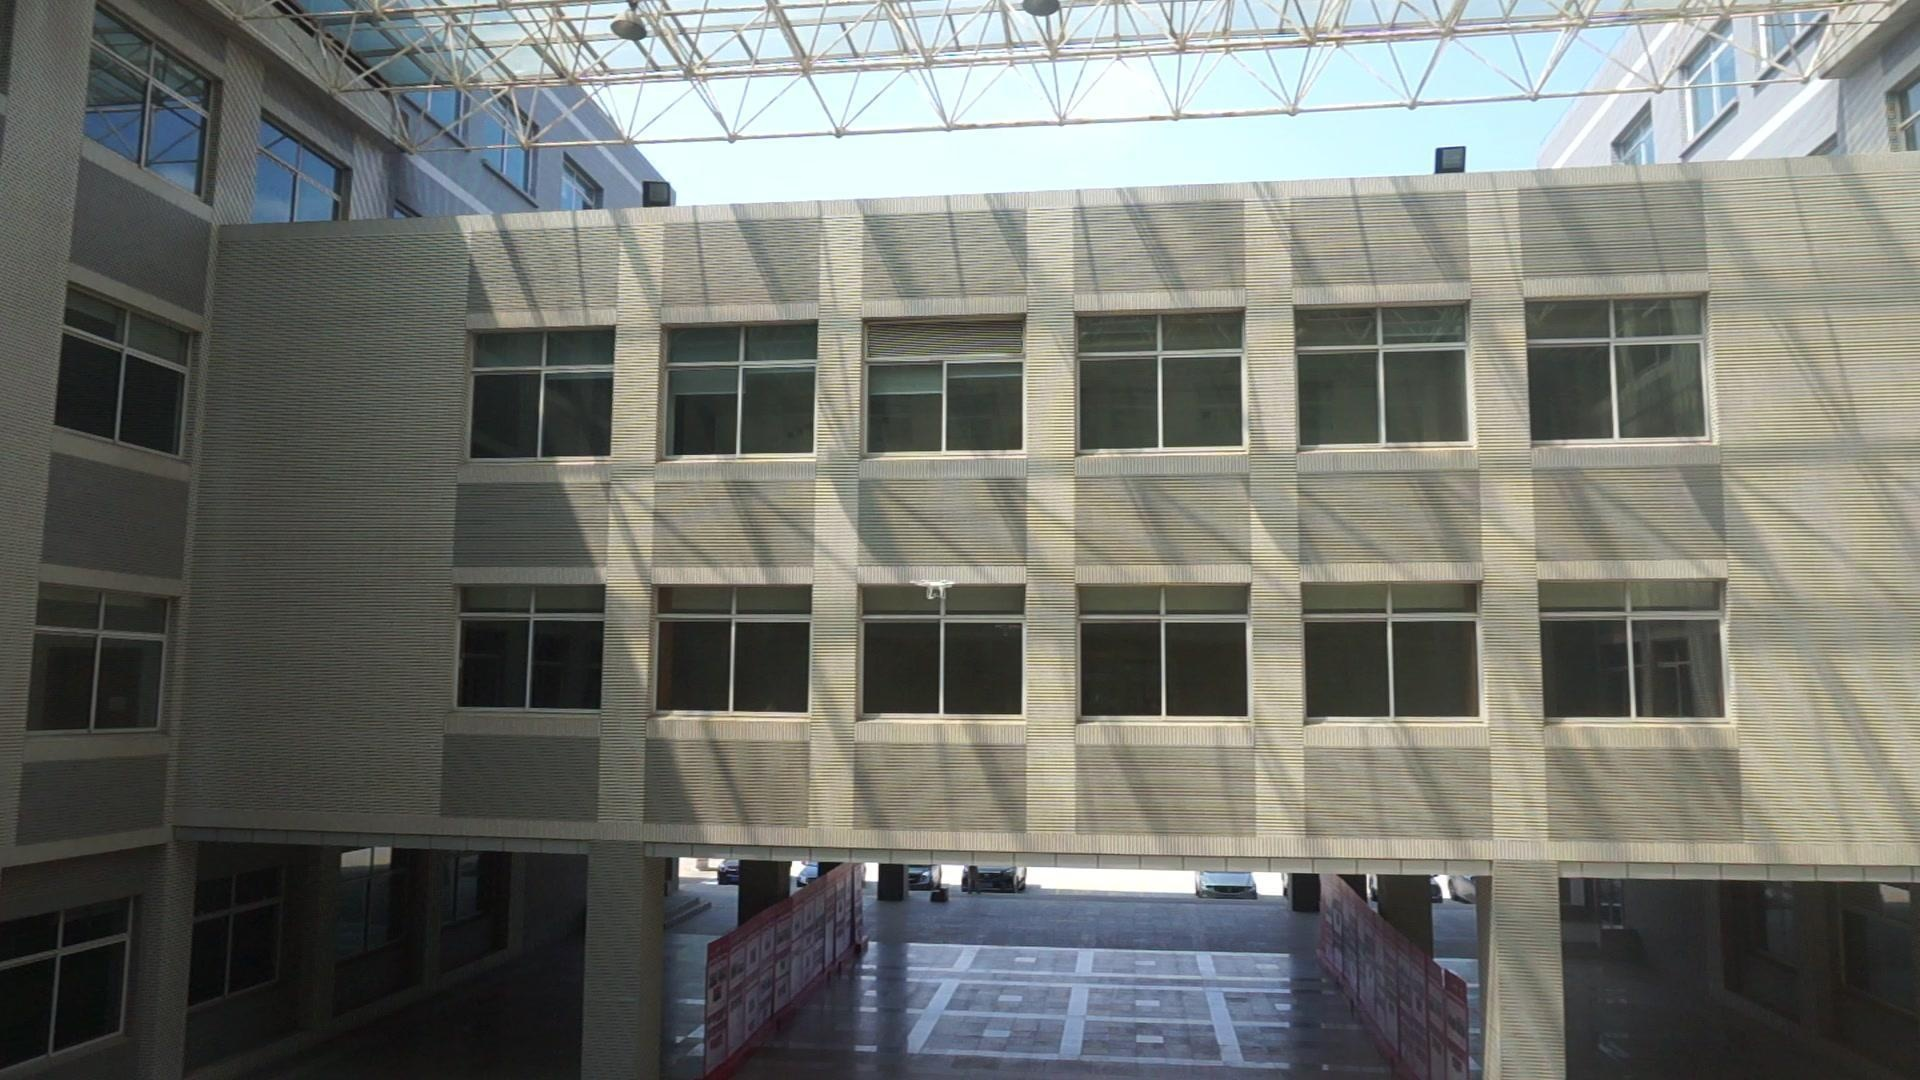UAV: (911, 582, 956, 601)
